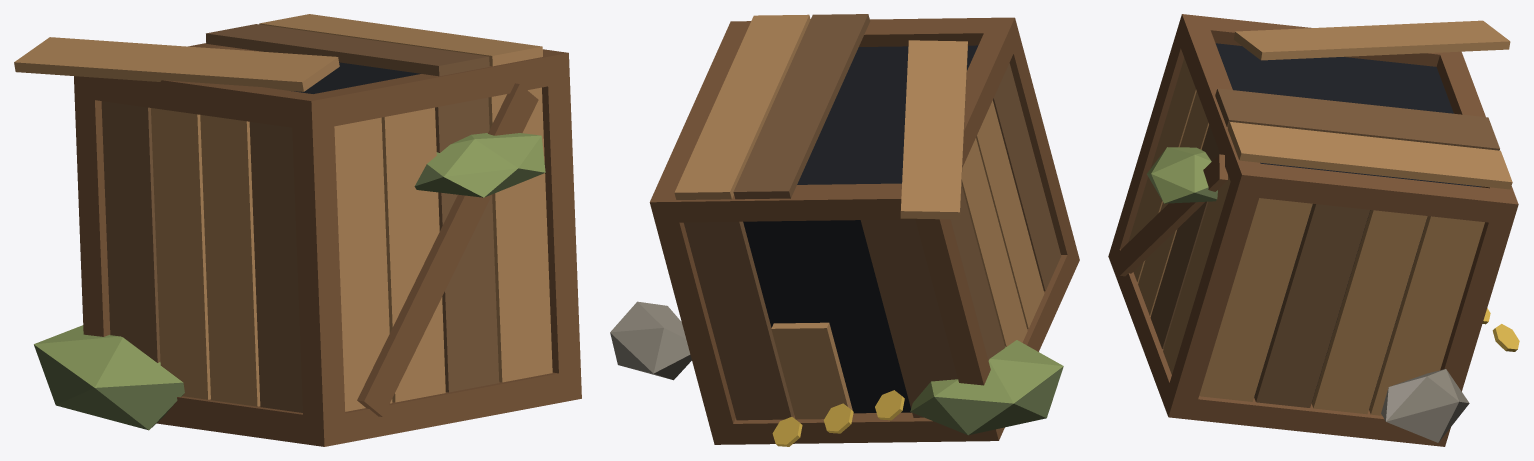
The model's file is sunken_crate.glb.
3 renders of one model, left to right at view 1: azimuth 30°, elevation 25°; view 2: azimuth 150°, elevation 25°; view 3: azimuth 270°, elevation 25°, orthographic. The views are drawn at different scales.
Visible parts, largest first — view 1: sunken_crate; view 2: sunken_crate; view 3: sunken_crate.
Boxes of the visible parts, box(x1,y1,x2,y2) form: sunken_crate: box(14, 14, 581, 446); sunken_crate: box(610, 14, 1079, 446); sunken_crate: box(1108, 14, 1519, 446).
Size of the model in its own units: 1.51 by 1.34 by 1.41.
